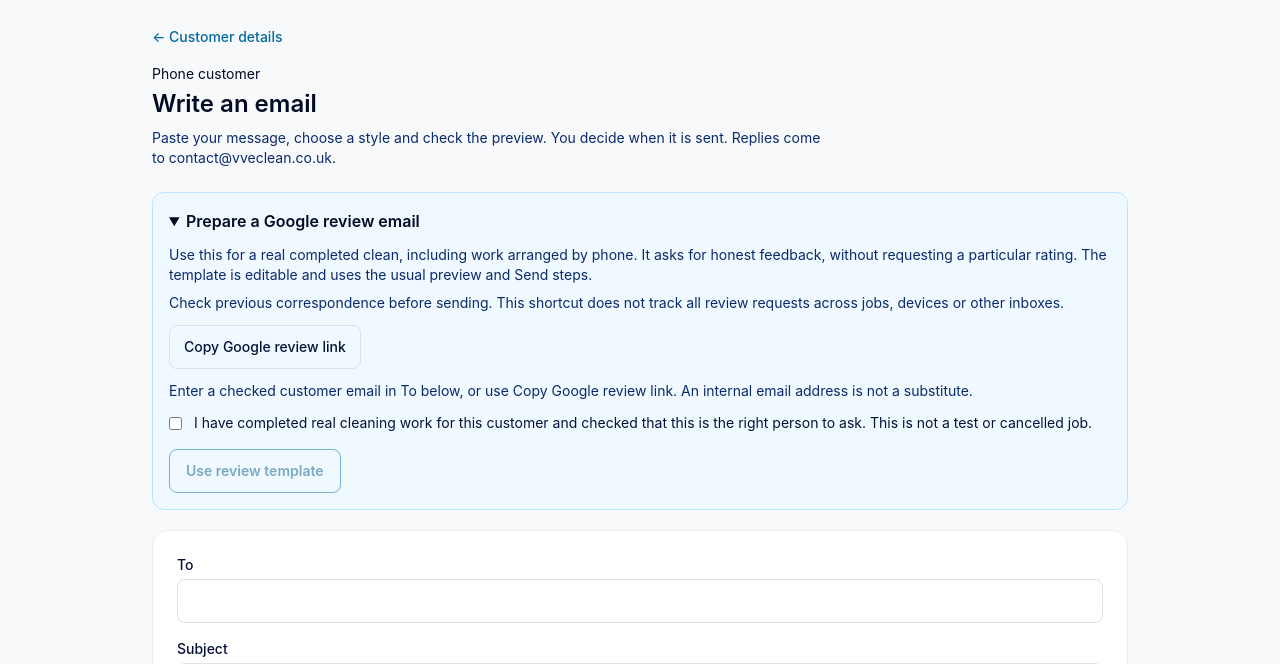
customer email composer › allows a phone-only customer to copy the link without creating or sending a draft
Expected: the text "Phone customer" is shown, [152,65,260,82]
Click the checkbox labelled "I have completed real cleaning work": click(176, 424) [169,417,182,430]
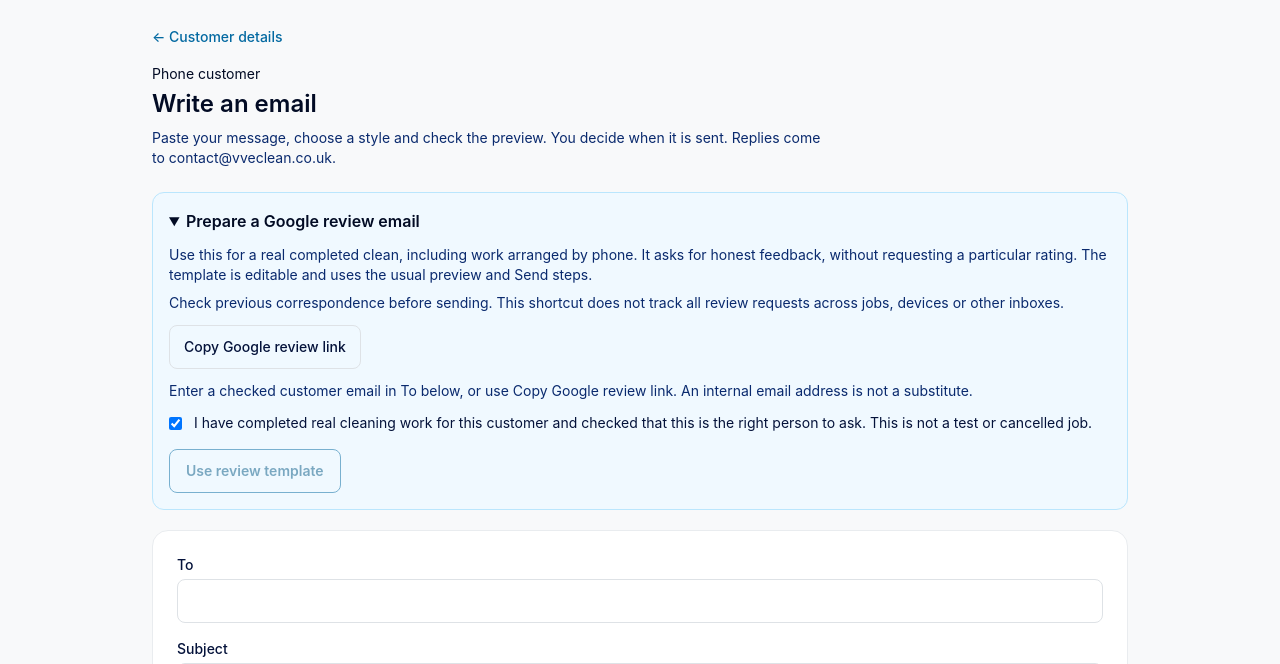
Expected: the button "Use review template" is disabled, [169,449,340,493]
Click the button "Copy Google review link": click(265, 347) [169,325,361,369]
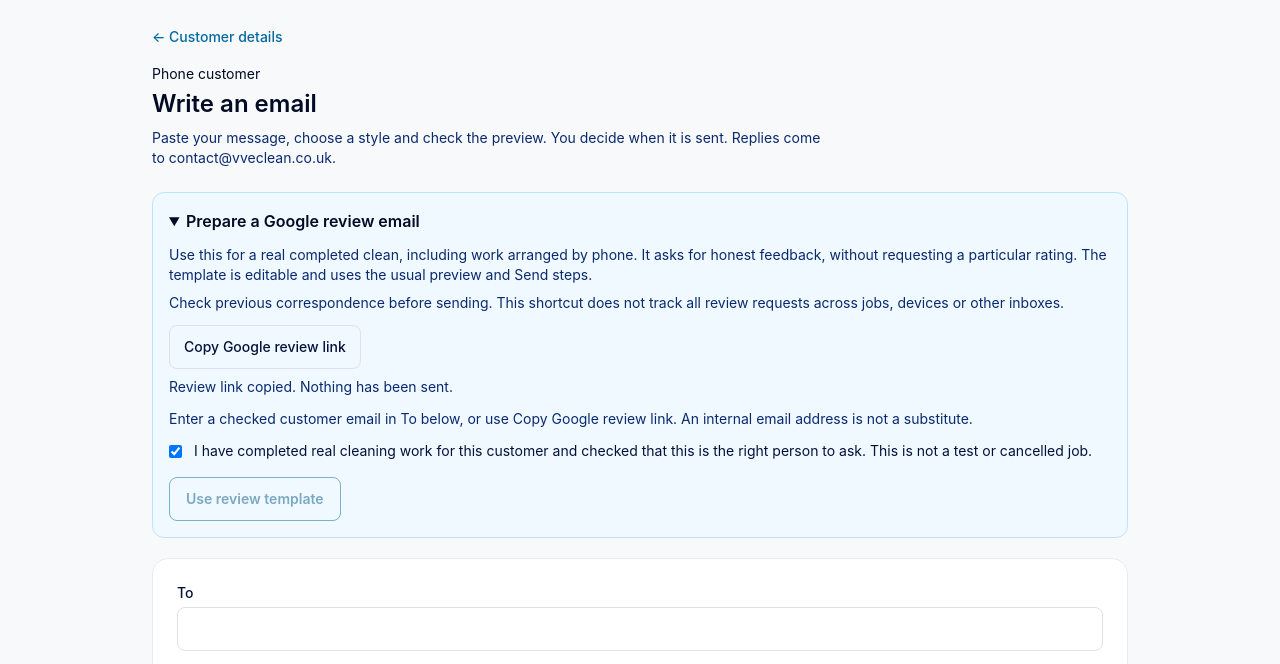
Expected: the text "Review link copied. Nothing has been sent." is shown, [169,378,453,395]
